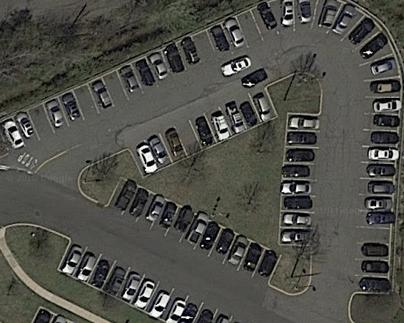parkingspot: (0, 0, 404, 295), (105, 176, 283, 289), (57, 236, 247, 323), (127, 84, 279, 179), (279, 113, 323, 248)
